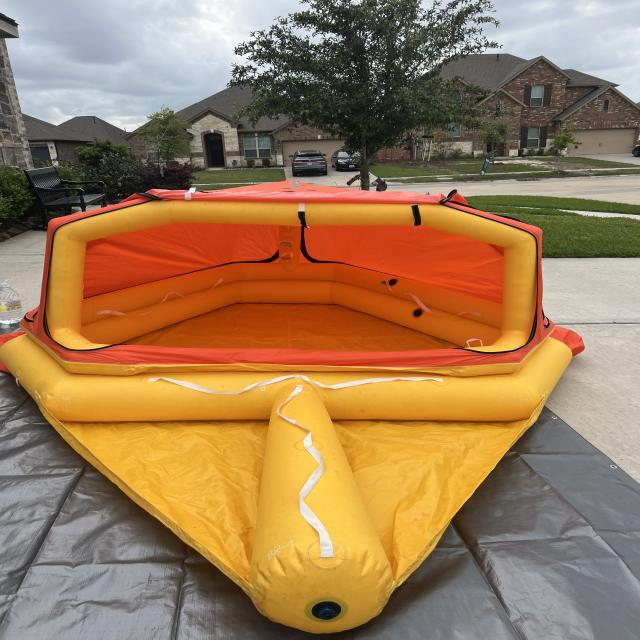Multi-person_life_raft: (0, 178, 587, 638)
